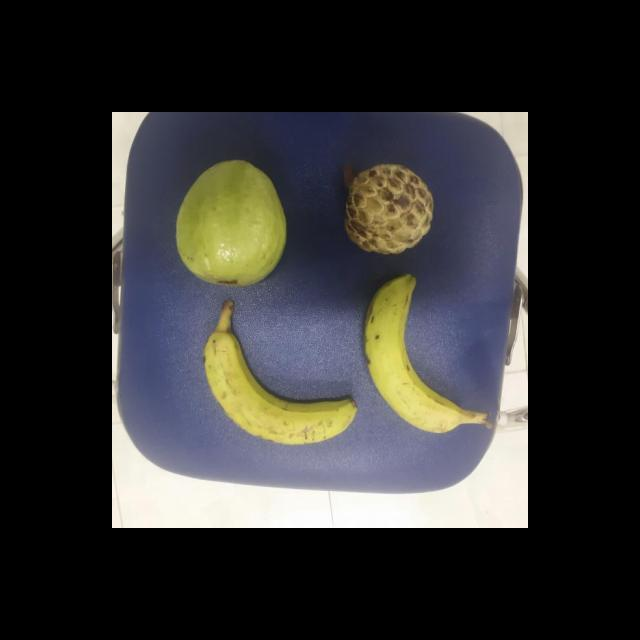Sakya fruit: (341, 163, 438, 259)
banana: (200, 324, 364, 450), (362, 270, 472, 437)
guava: (174, 160, 293, 292)
